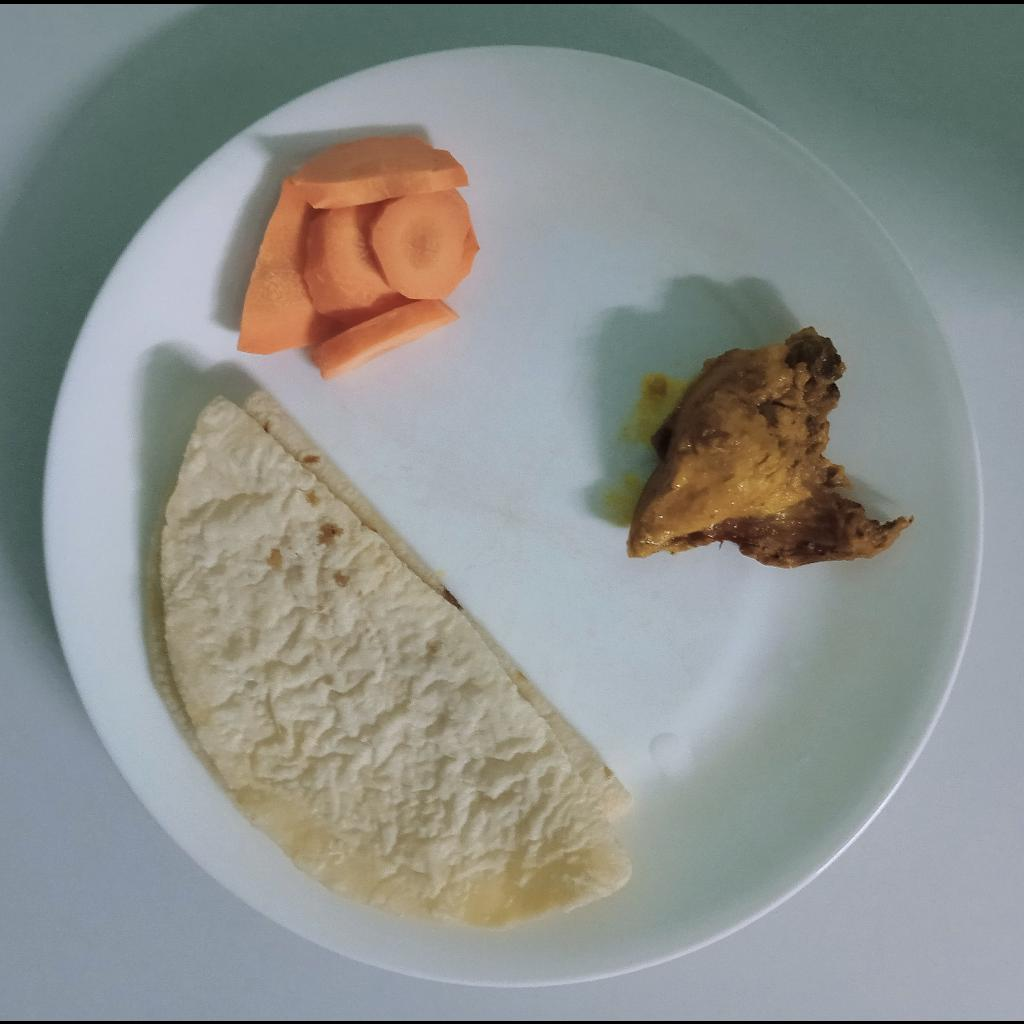carrot: (237, 134, 479, 380)
chicken: (628, 324, 914, 568)
ruti: (140, 385, 640, 933)
